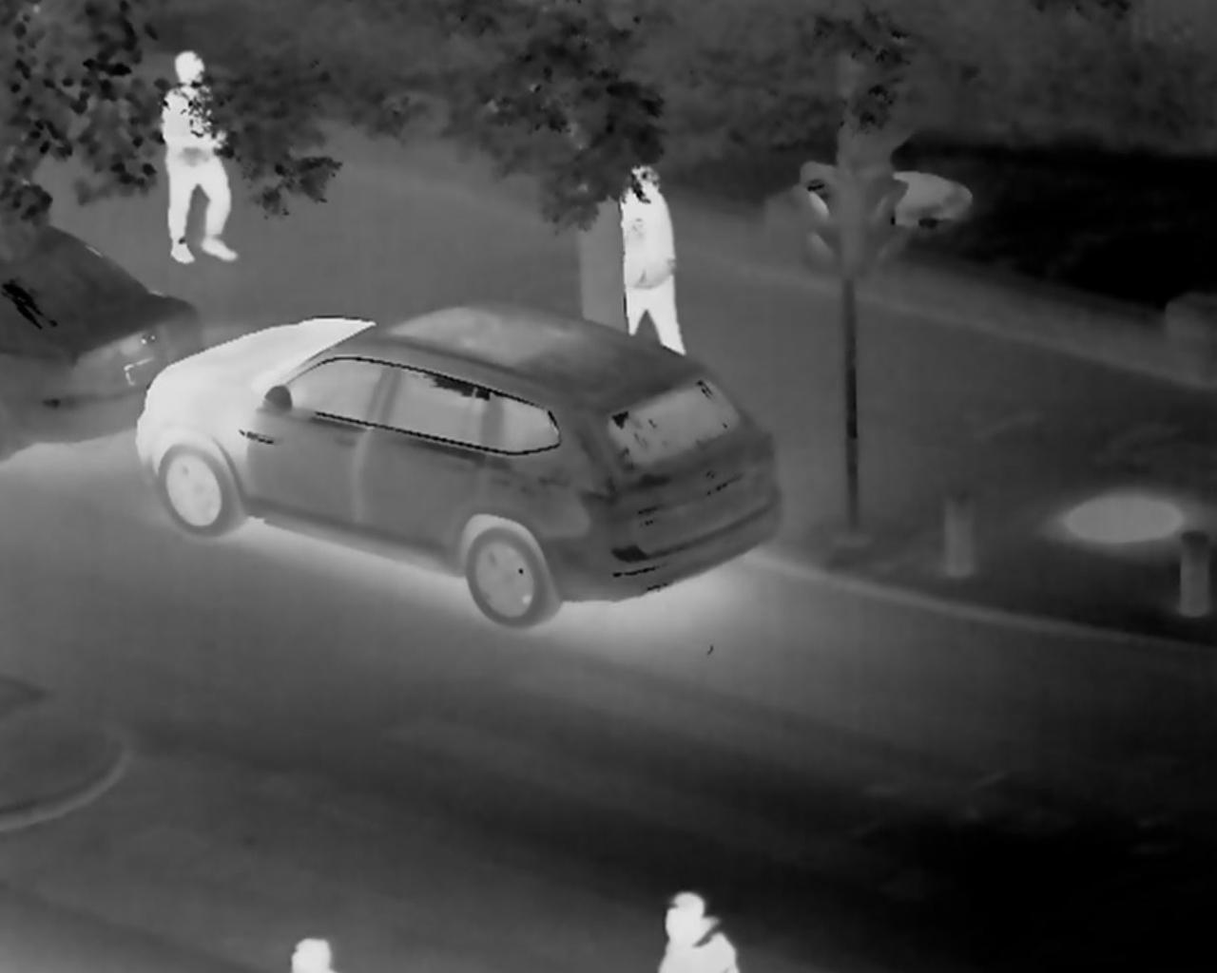person: (156, 48, 246, 266), (610, 161, 688, 361), (648, 882, 755, 973)
